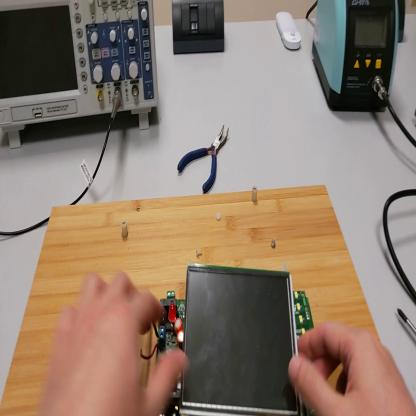hand: (40, 269, 190, 415), (290, 320, 416, 416)
low voltage board: (140, 265, 315, 415)
oscilloscope: (2, 3, 159, 148)
pliers: (177, 125, 231, 192)
screwdriver-: (398, 309, 415, 338)
socket: (399, 2, 405, 44)
welder station: (312, 4, 400, 115)
working area: (3, 185, 383, 412)
